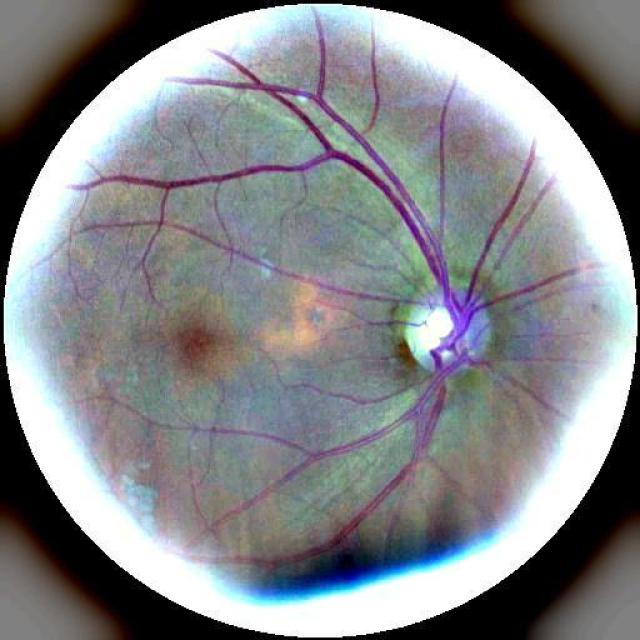Macula: (181, 328, 212, 359)
Optic Disk: (399, 282, 494, 380)
